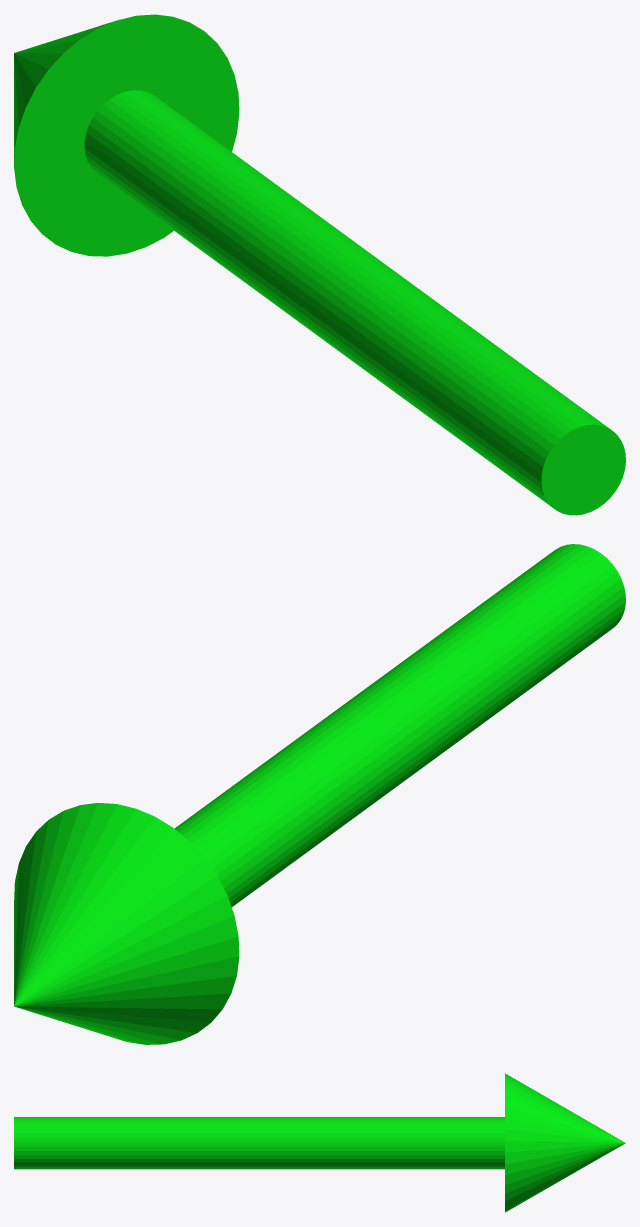
The model's file is Verde.fbx.
The picture shows the model from 3 angles, top to bottom: view 1: azimuth 30°, elevation 25°; view 2: azimuth 150°, elevation 25°; view 3: azimuth 270°, elevation 25°; orthographic projection. The views are drawn at different scales.
Visible parts, largest first — view 1: azul; view 2: azul; view 3: azul.
Part boxes in pixels (x1,y1,x2,y2): azul: [14, 14, 625, 515]; azul: [14, 544, 625, 1044]; azul: [14, 1073, 625, 1212].
Size of the model in its own units: 1599 by 1597 by 7000.
